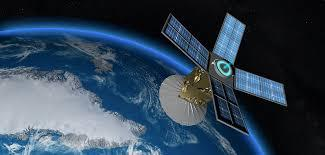antenna: (160, 72, 208, 125)
solar: (208, 76, 252, 137), (162, 14, 210, 69), (236, 68, 289, 106), (216, 13, 245, 61)
